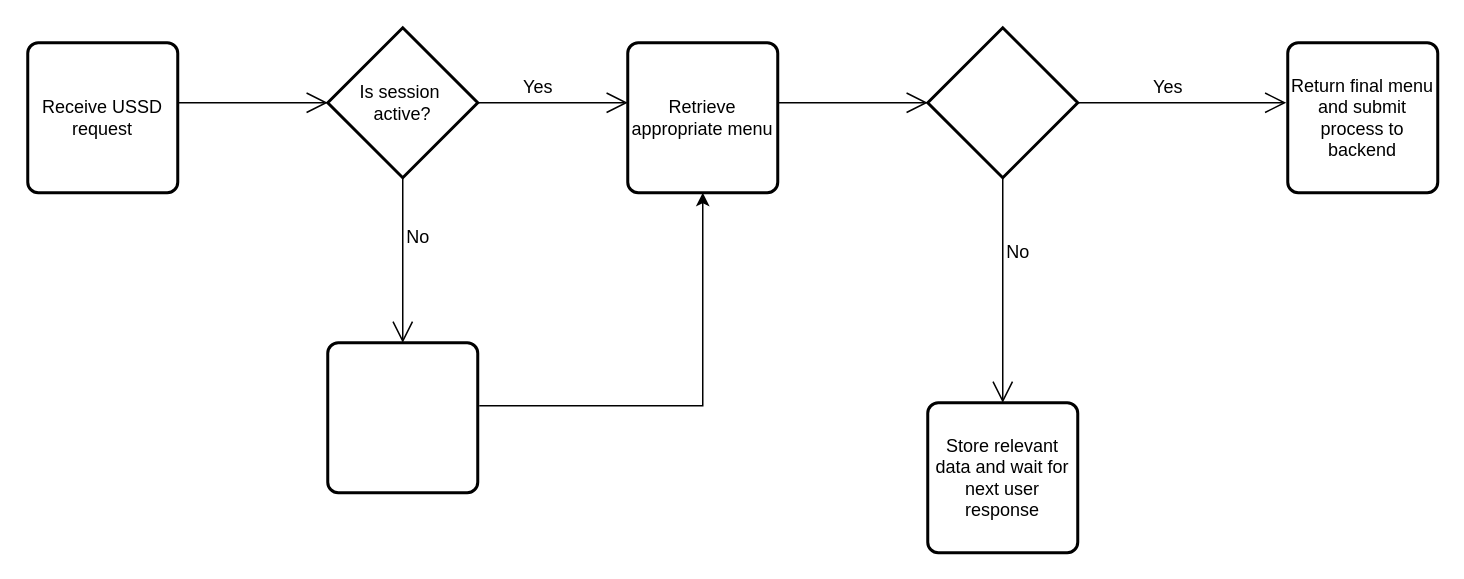
Some shapes in this 1464 by 579 pixel diagram are drawn without their labels. Here are the shapes that lost their labels. From the top down, the centre of each, then its label:
At point (1002, 102): "Is menu final?".
At point (402, 417): "Create new USSD session".
